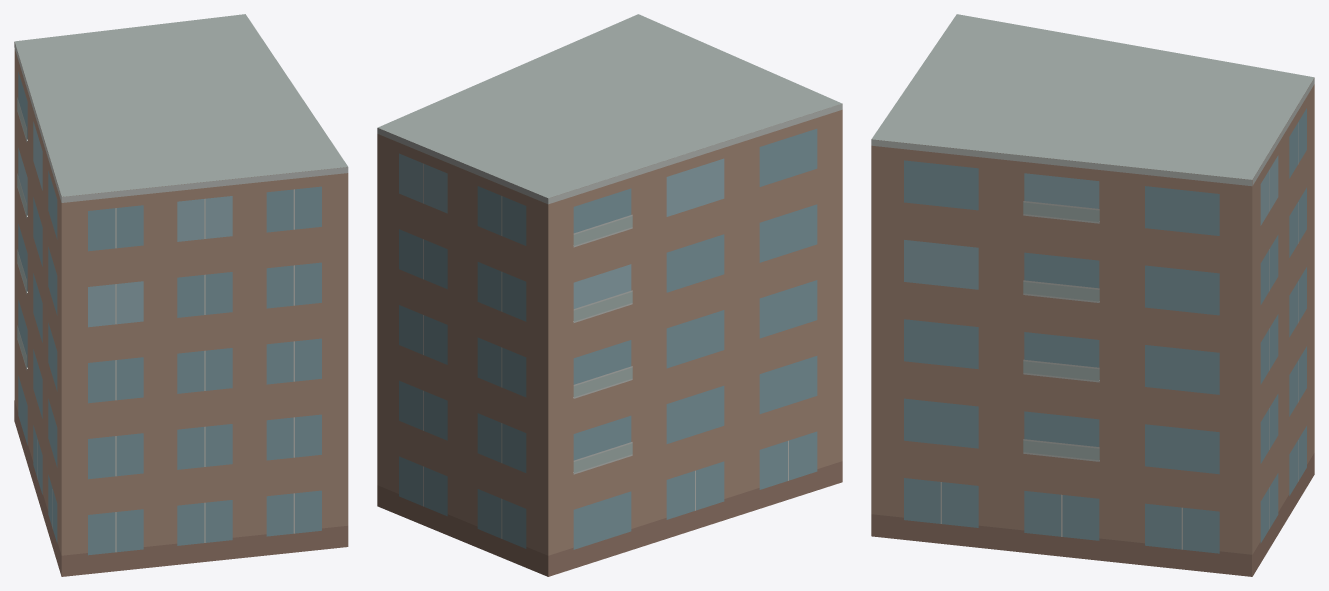
Rendered from survey-upis-32665263.glb.
3 views of the same model, side by side, from view 1: azimuth 30°, elevation 25°; view 2: azimuth 150°, elevation 25°; view 3: azimuth 270°, elevation 25° (orthographic). The views are drawn at different scales.
Visible parts, largest first — view 1: survey-upis-32665263.tmp; view 2: survey-upis-32665263.tmp; view 3: survey-upis-32665263.tmp.
Boxes of the visible parts, <box> form: survey-upis-32665263.tmp: <box>14,14,348,576</box>; survey-upis-32665263.tmp: <box>377,14,842,576</box>; survey-upis-32665263.tmp: <box>871,14,1314,576</box>.
Bounding box in the file's own units: 13.63 × 15.2 × 15.39.
